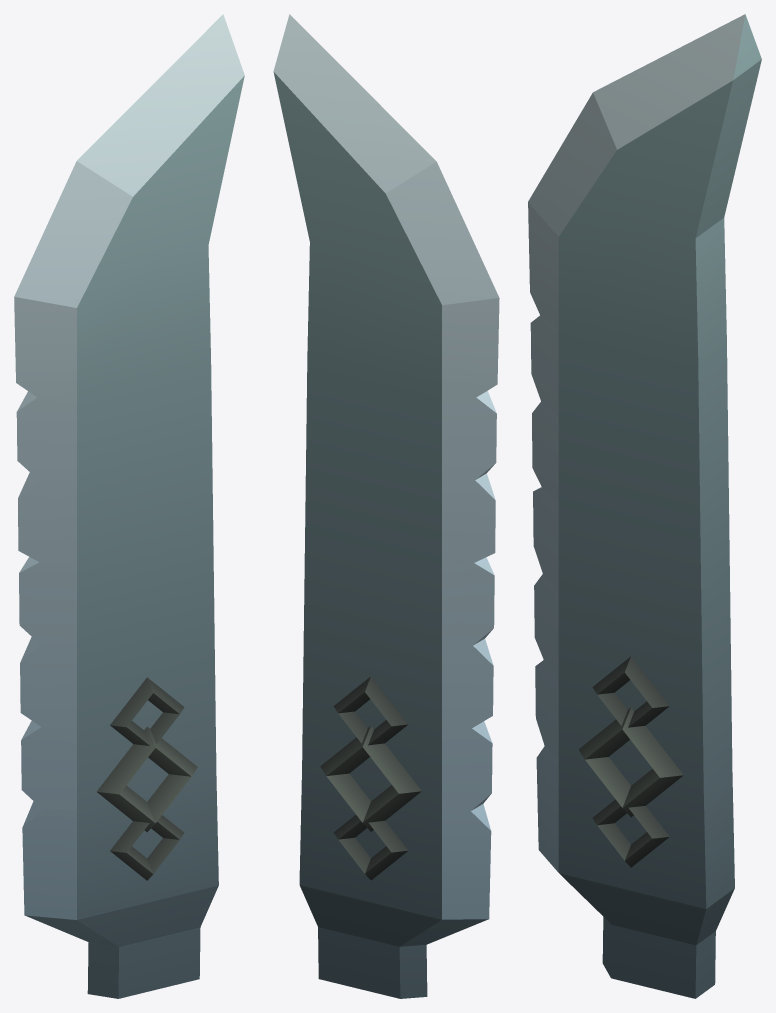
File: blade_004.fbx
3 views of the same model, side by side, from view 1: azimuth 30°, elevation 25°; view 2: azimuth 150°, elevation 25°; view 3: azimuth 330°, elevation 25° (orthographic). The views are drawn at different scales.
Parts seen in each view (by area): view 1: blade.004; view 2: blade.004; view 3: blade.004.
Part boxes in pixels (box(x1,y1,x2,y2)): blade.004: box(14, 14, 244, 998); blade.004: box(273, 14, 499, 998); blade.004: box(528, 14, 761, 998).
Bounding box in the file's own units: 28.97 × 123 × 10.66.
